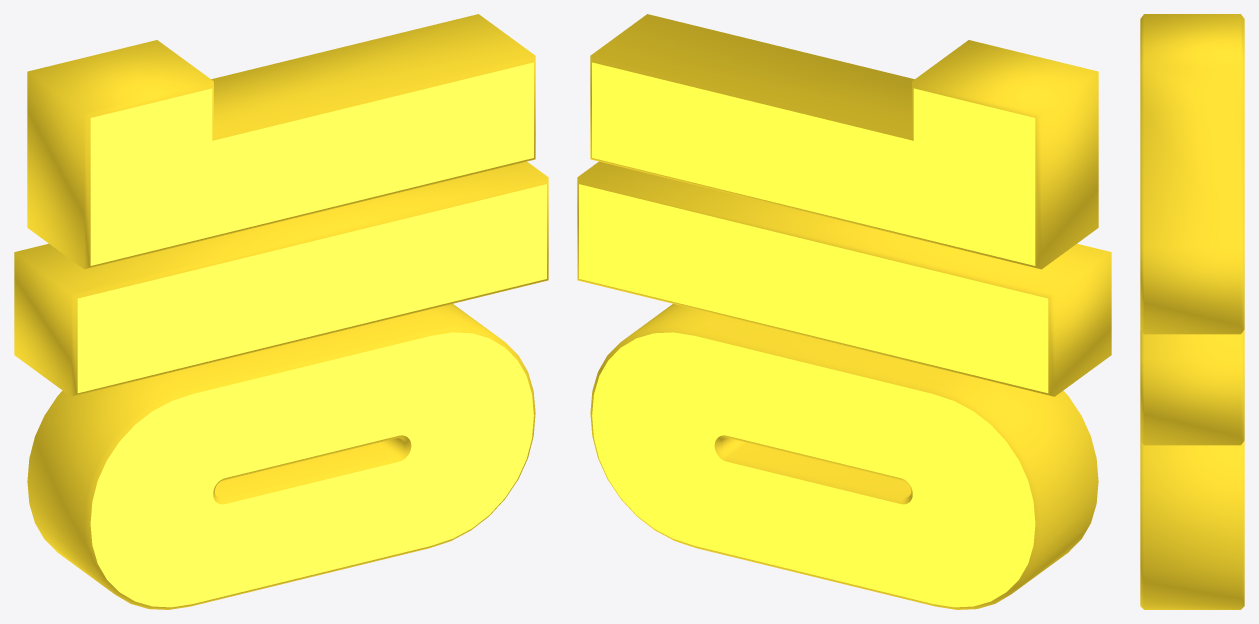
The picture shows the model from 3 angles, left to right: view 1: azimuth 30°, elevation 25°; view 2: azimuth 150°, elevation 25°; view 3: azimuth 270°, elevation 25°; orthographic projection. The views are drawn at different scales.
Visible parts, largest first — view 1: glyph; view 2: glyph; view 3: glyph.
Boxes of the visible parts, x1,y1,x2,y2 form: glyph: (14, 14, 548, 609); glyph: (577, 14, 1111, 609); glyph: (1140, 14, 1244, 609).
Size of the model in its own units: 0.0726 by 0.0755 by 0.0162.
